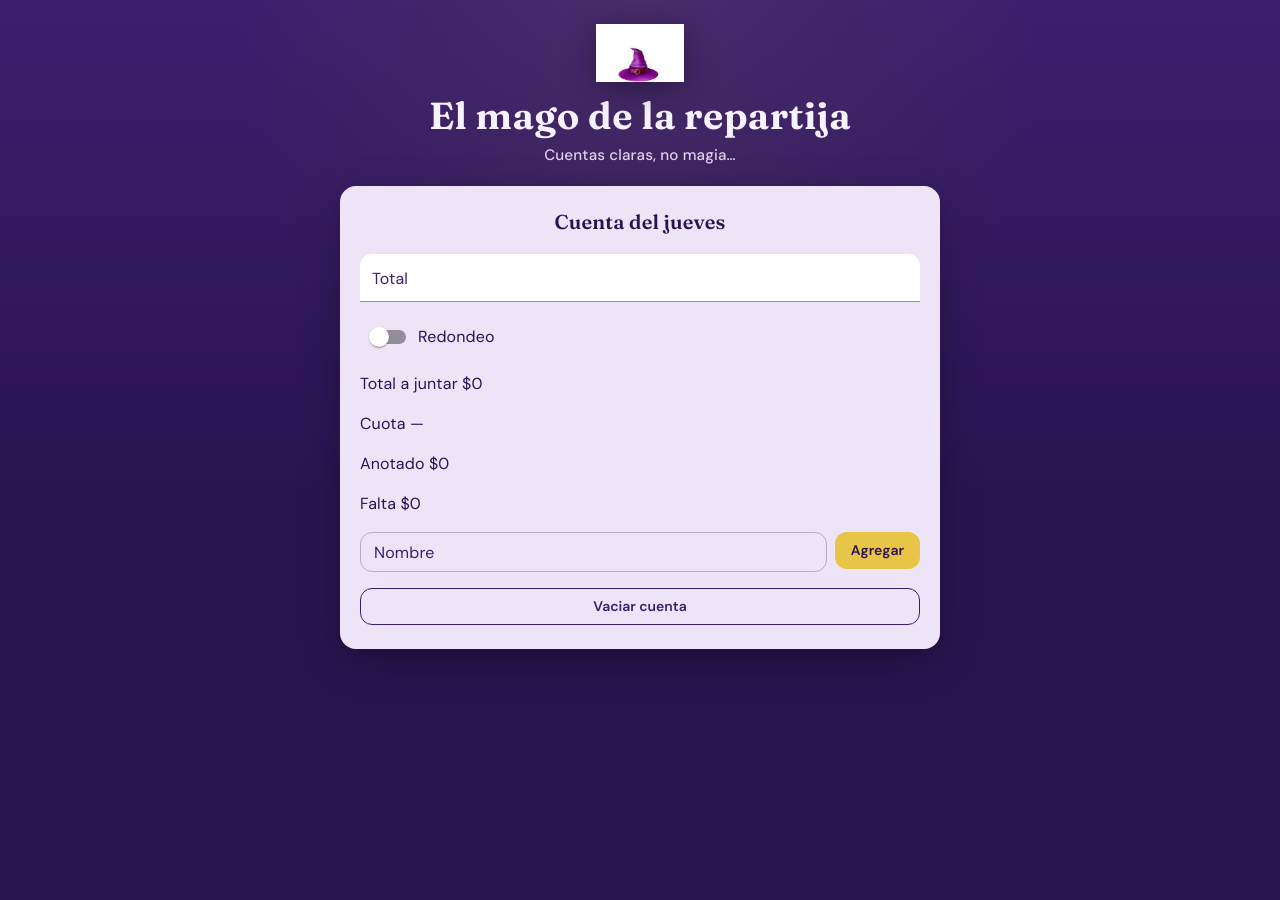
Scenario: Cuenta del jueves › debería rechazar el nombre cuando está vacío o duplicado
Step 1. Click the button "Agregar" → [877, 551], box [835, 532, 920, 569]
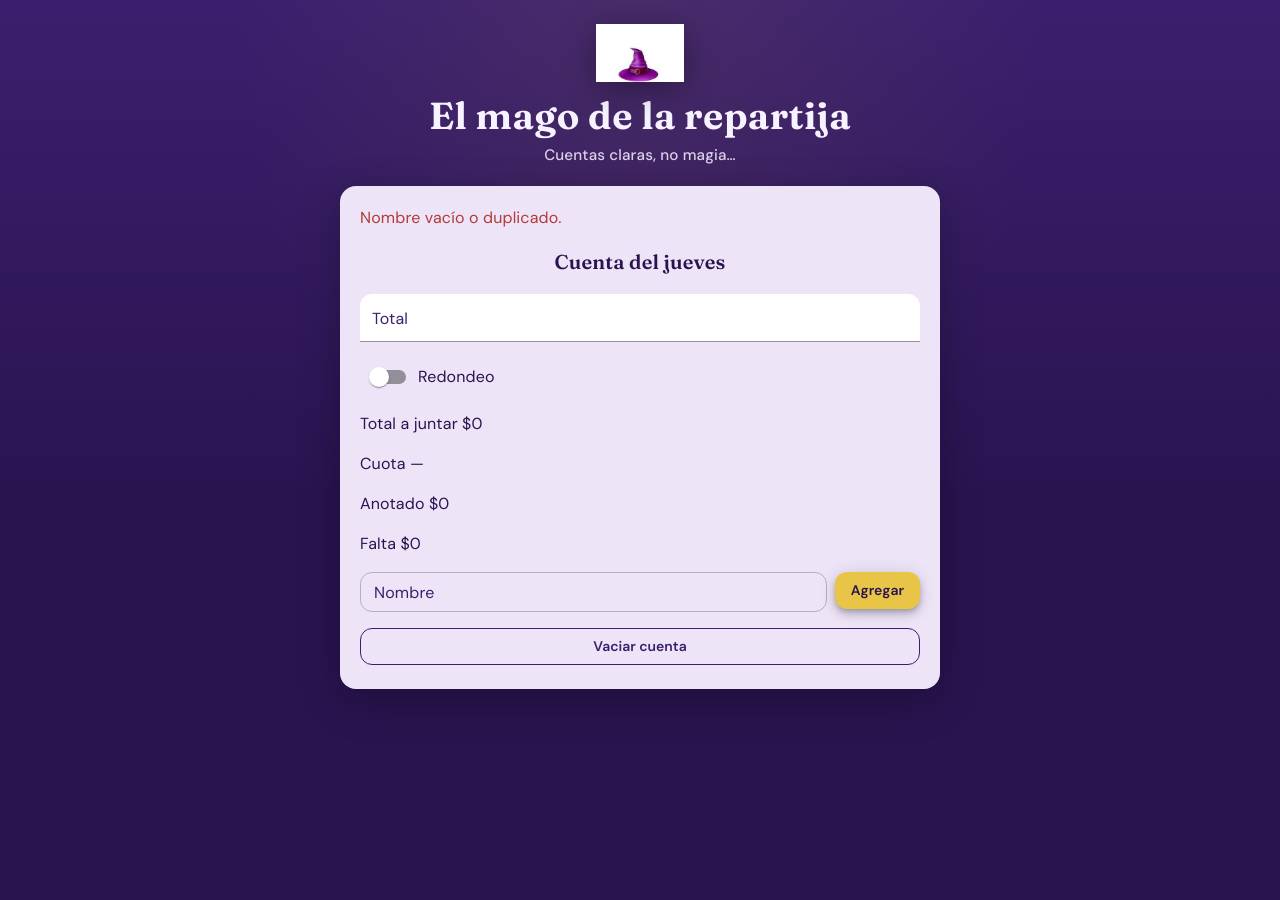
Expected: the text "Nombre vacío o duplicado." is shown, [360, 208, 562, 228]
Step 2. Type "100" into the field labelled "Total" → [640, 318], box [360, 294, 920, 342]
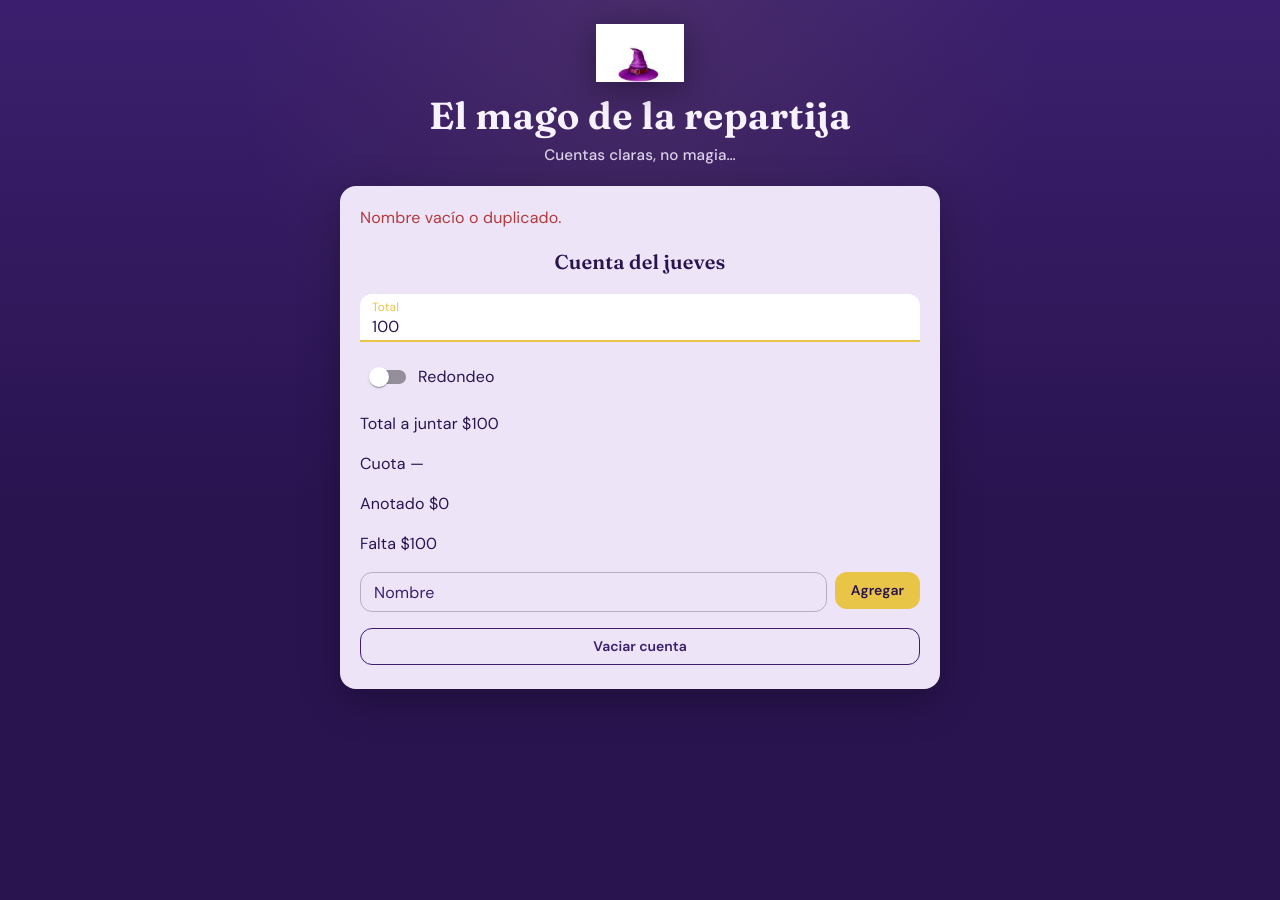
Step 3. Type "Ferra" into the field labelled "Nombre" → [593, 592], box [360, 572, 827, 612]
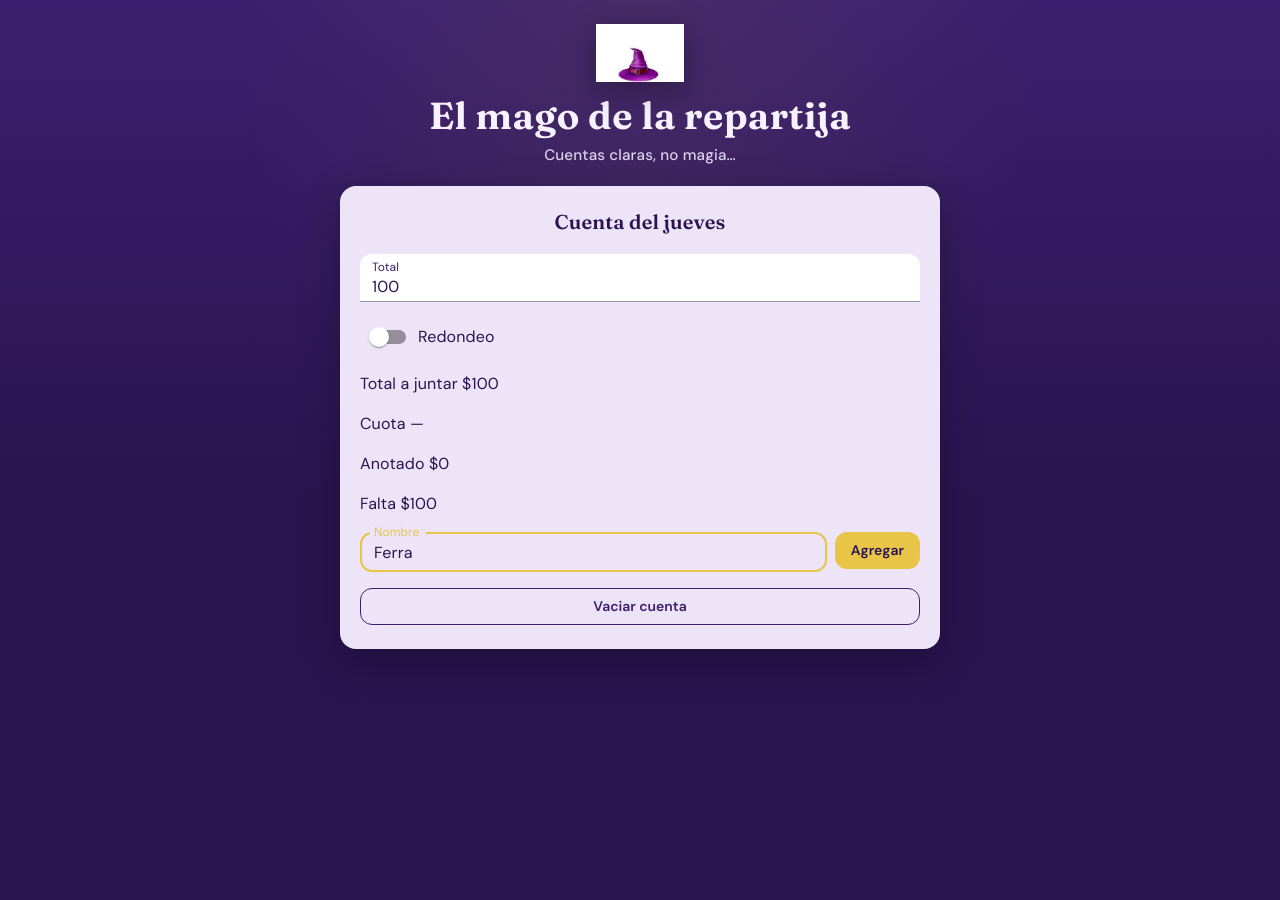
Step 4. Click the button "Agregar" → [877, 551], box [835, 532, 920, 569]
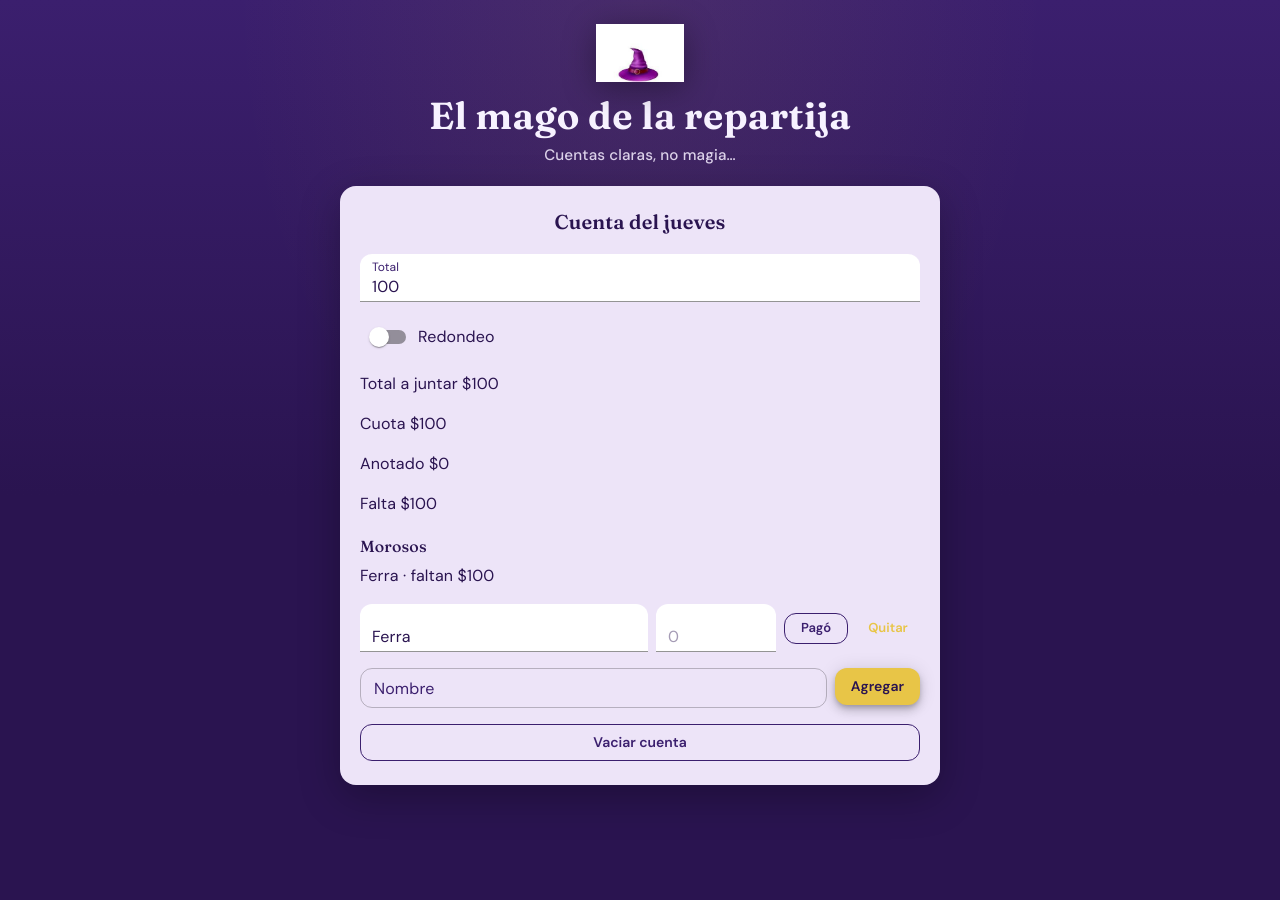
Step 5. Type "Ferra" into the field labelled "Nombre" → [593, 688], box [360, 668, 827, 708]
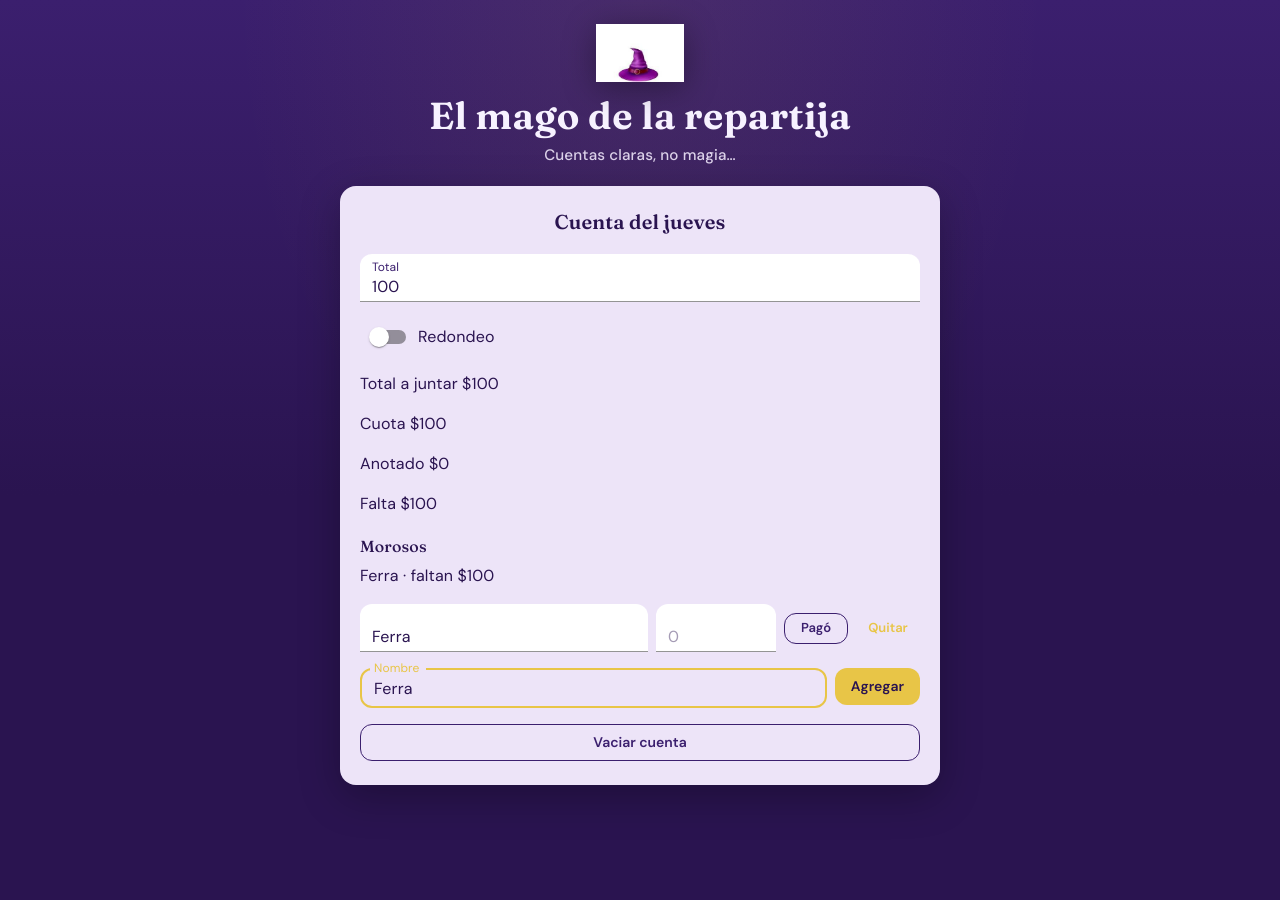
Step 6. Click the button "Agregar" → [877, 687], box [835, 668, 920, 705]
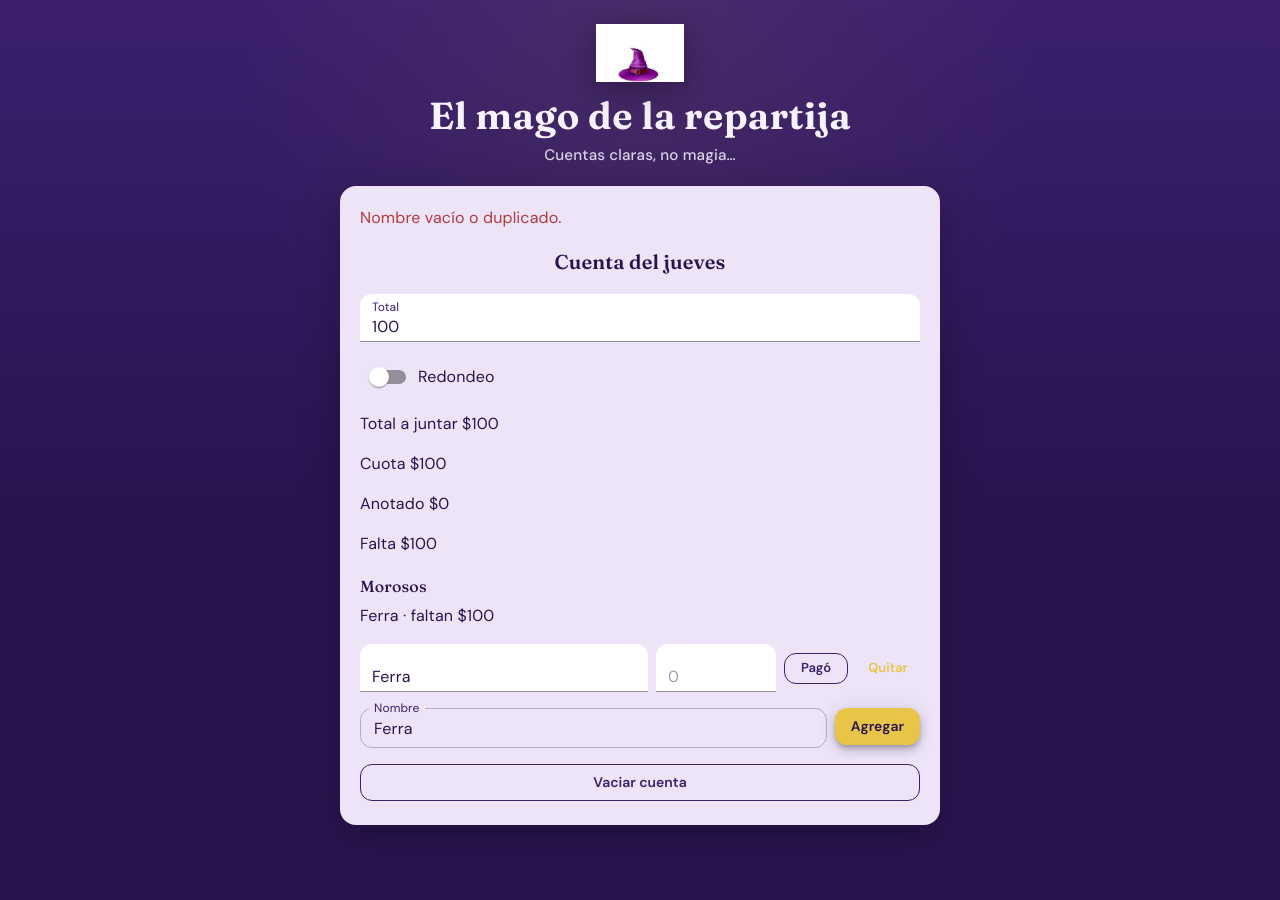
Expected: the number of fields named "Monto de " is 1, [656, 644, 776, 692]
Expected: the text "Nombre vacío o duplicado." is shown, [360, 208, 562, 228]
